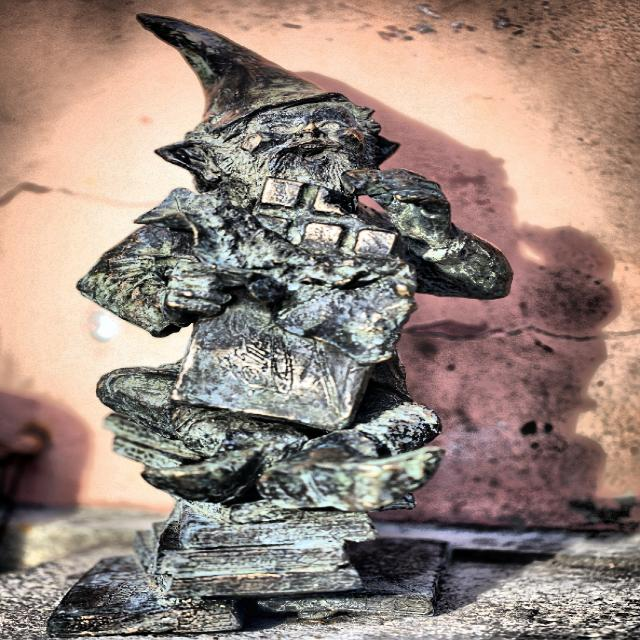Wedelek: (47, 15, 510, 636)
